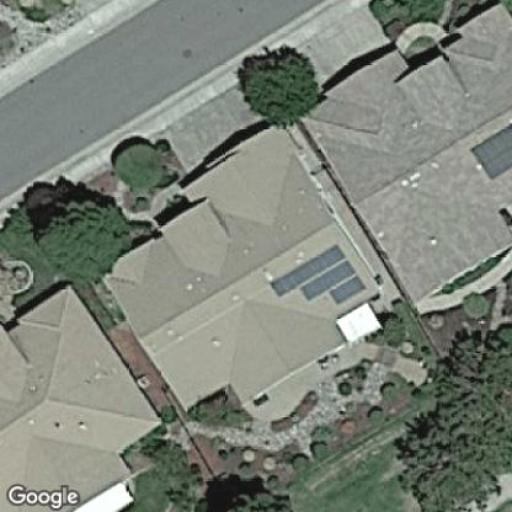solar-panel: (269, 242, 369, 303), (467, 121, 511, 182)
